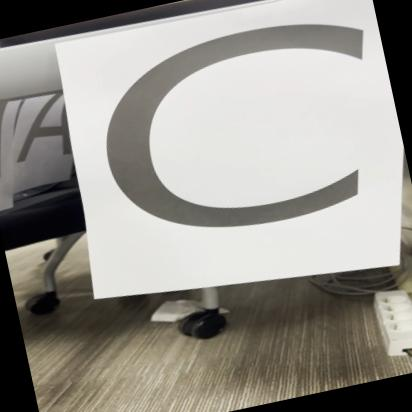seat: (78, 0, 412, 315)
